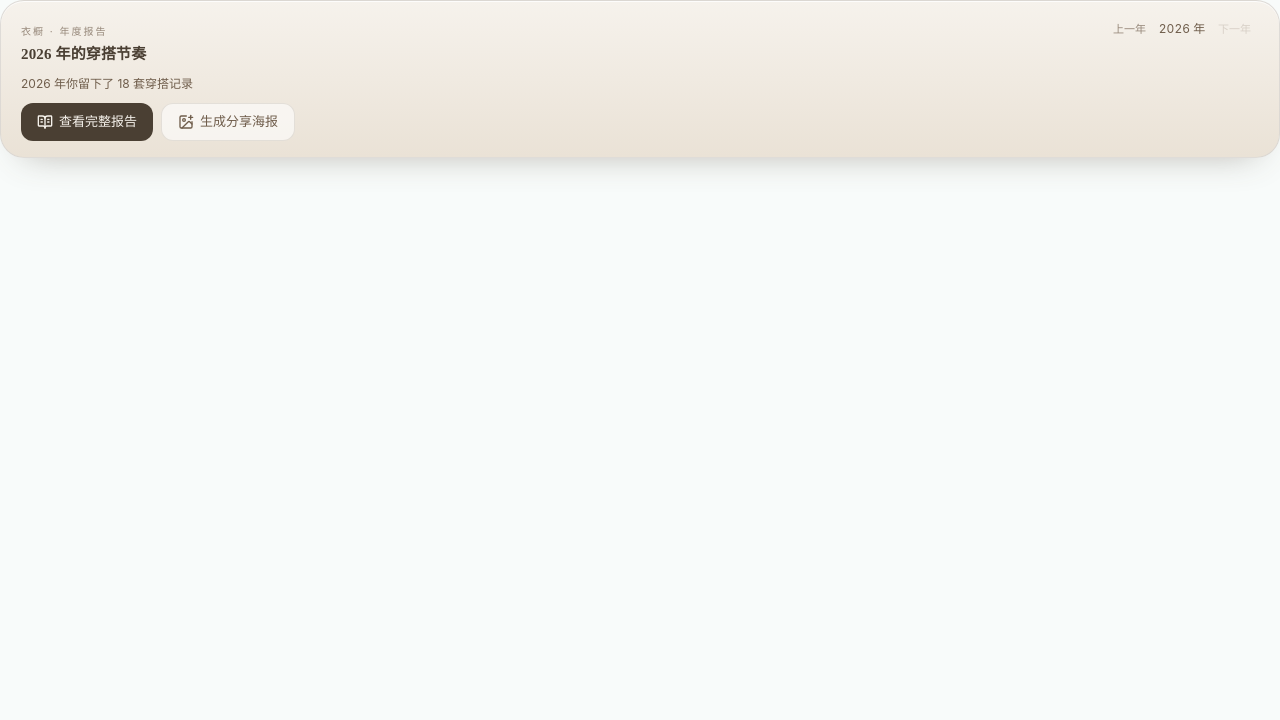
Scenario: WardrobeAnnualReportCard › 已生成时展示标题与摘要，点开可见分段正文与事实数字
Click the button "查看完整报告". click: (87,122)
box: left=21, top=103, right=153, bottom=140
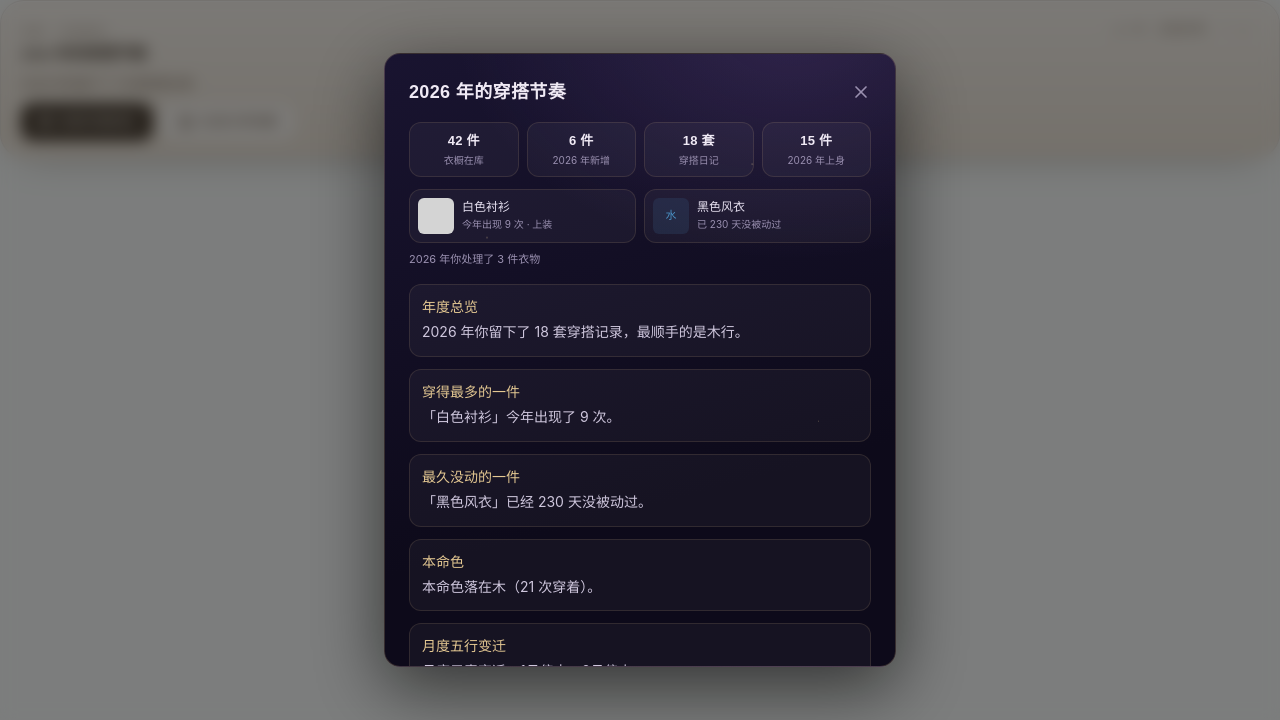
expect the heading "年度总览" is shown: met, box left=422, top=298, right=478, bottom=315
expect the heading "穿得最多的一件" is shown: met, box left=422, top=383, right=520, bottom=400
expect the text "「白色衬衫」今年出现了 9 次。" is shown: met, box left=422, top=408, right=621, bottom=425
Click the button named "关闭报告". click: (861,92)
box: left=851, top=82, right=871, bottom=102
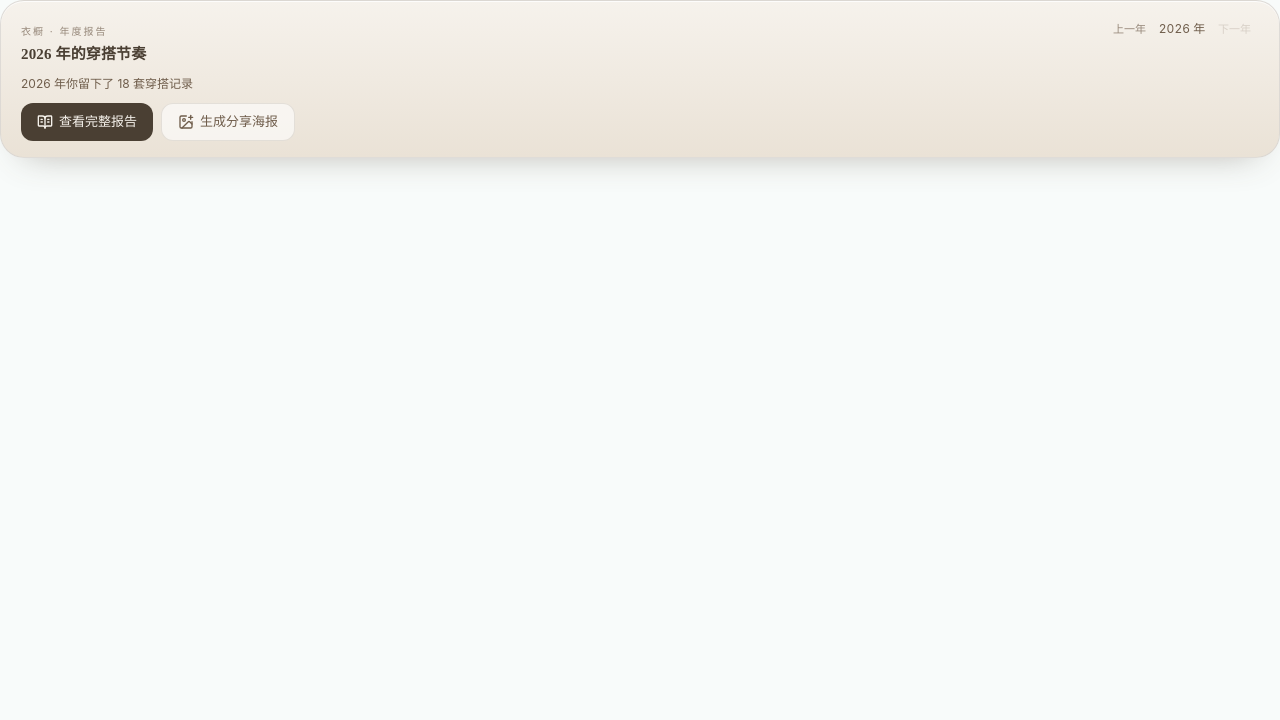
expect the heading "年度总览" is gone: met
